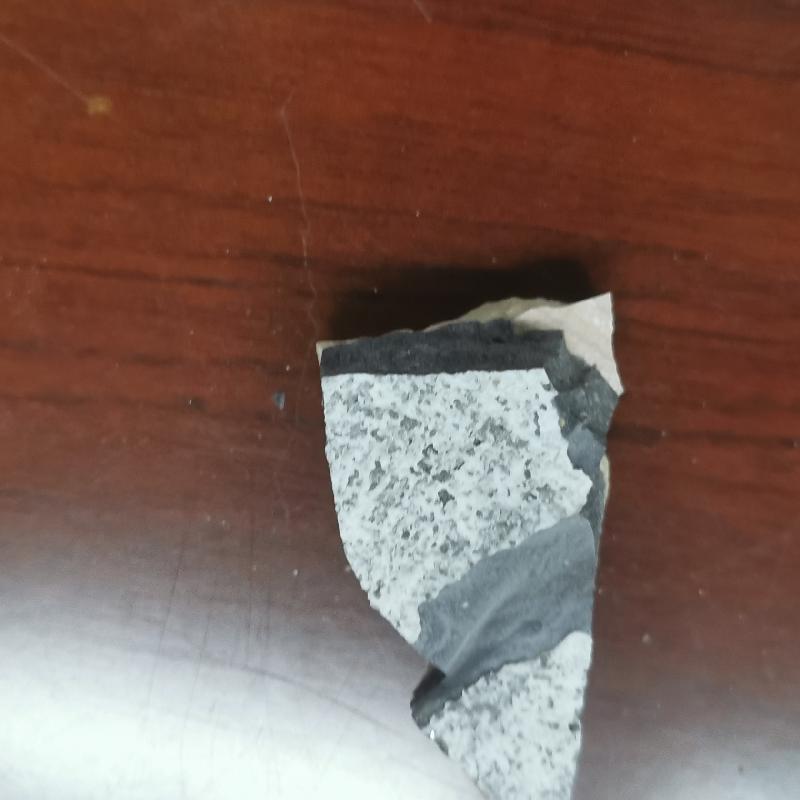tile: (308, 288, 627, 800)
